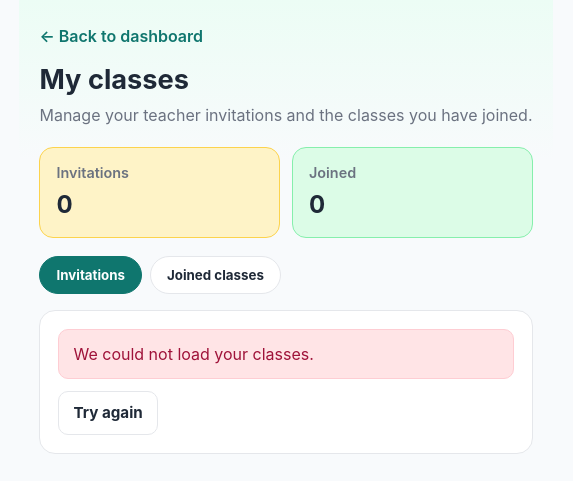
error state offers retry
The width and height of the screenshot is (573, 481).
Expected: the text "We could not load your classes." is shown, [58, 329, 514, 379]
Click the button "Try again".
click(108, 413)  # box [58, 391, 158, 435]
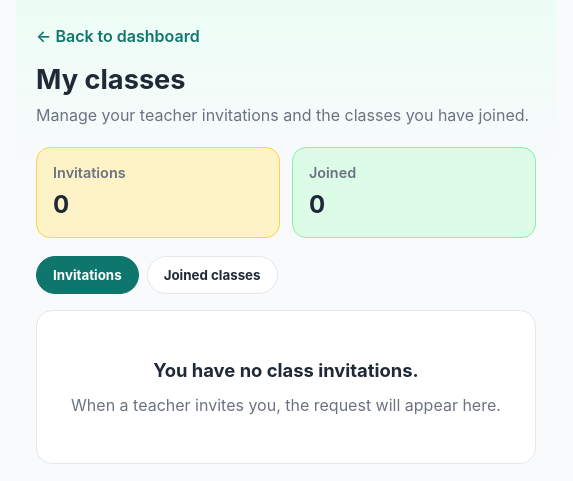
Now the heading "You have no class invitations." is shown, box [153, 359, 419, 381]
